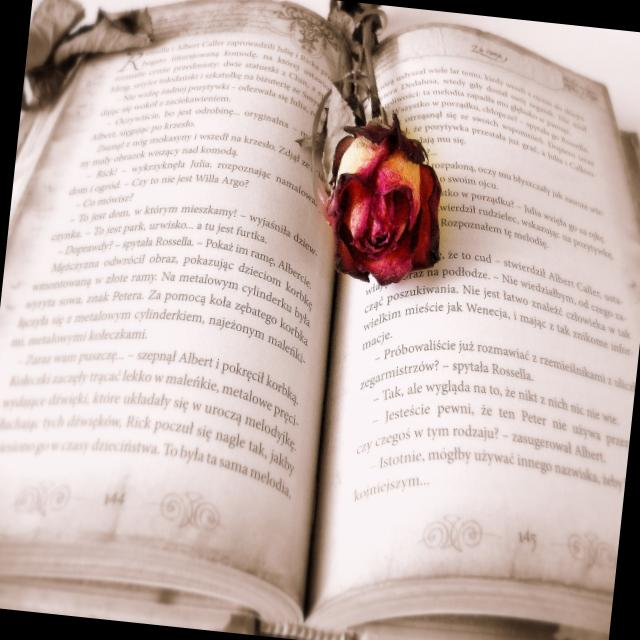notebook: (41, 12, 282, 380)
